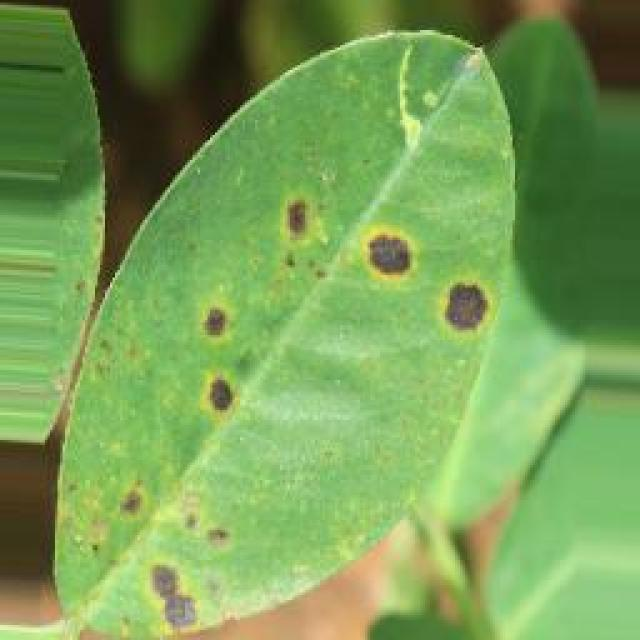Sigatoka: (264, 180, 496, 348), (39, 458, 238, 627), (178, 284, 260, 438), (78, 313, 154, 401)
